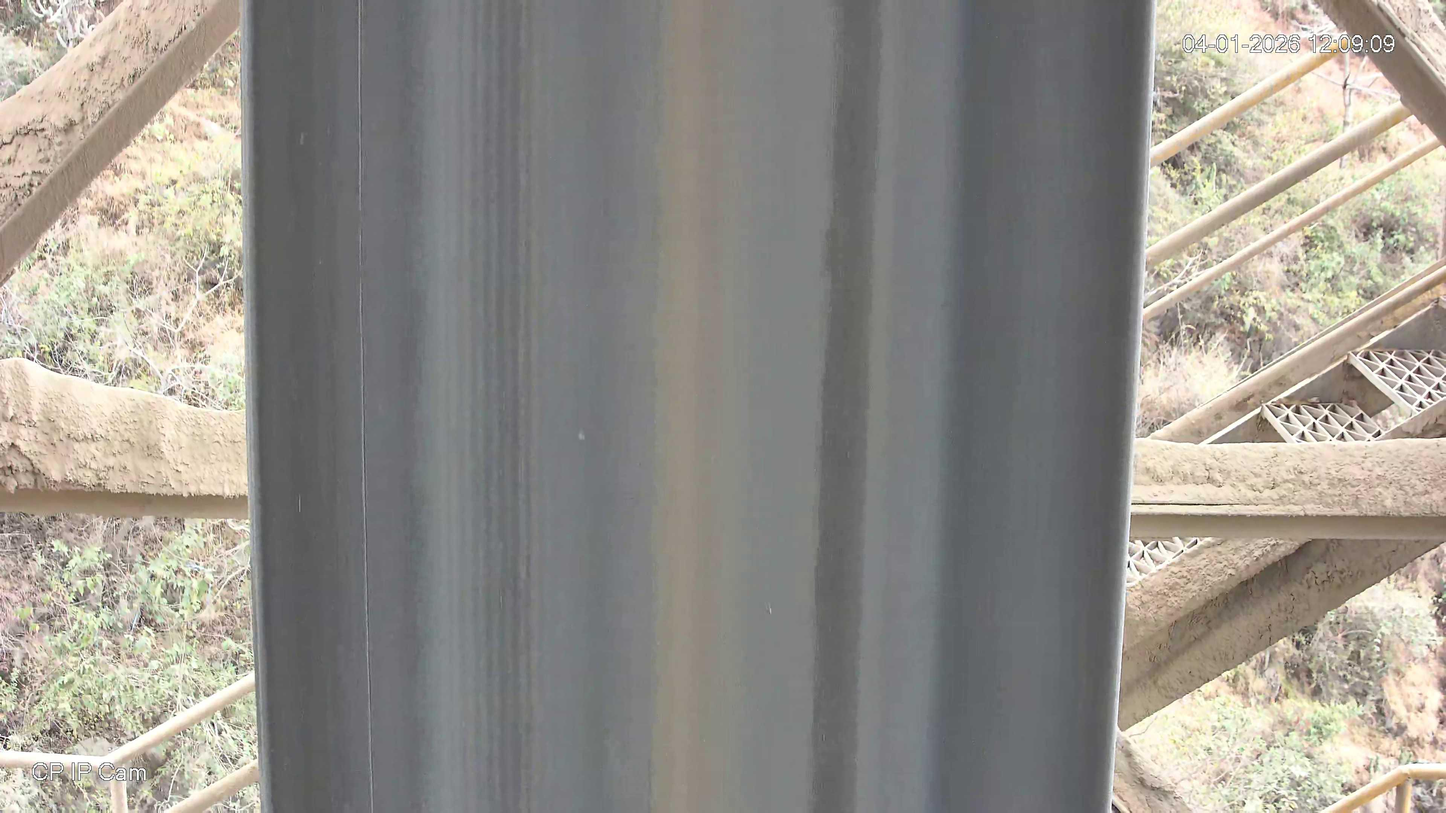belt_roi: (240, 0, 1153, 813)
